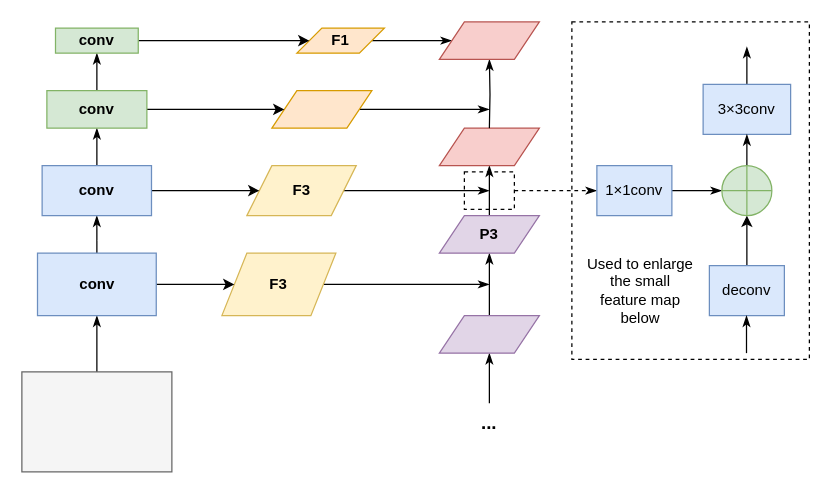
Image size: 831x494. Some labels were removed from this diagram. The centre of each missing label's shape, as x and y in pixels:
"F2" goes at (321,108).
"P2" goes at (488,333).
"P4" goes at (488,146).
"P5" goes at (488,40).
"photo" goes at (96,421).
